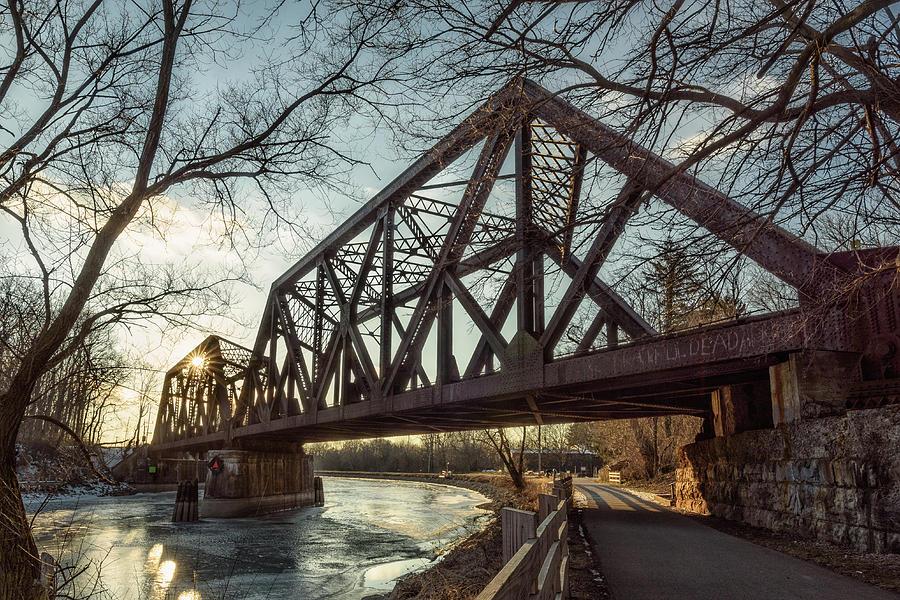bridge: (163, 77, 891, 451)
